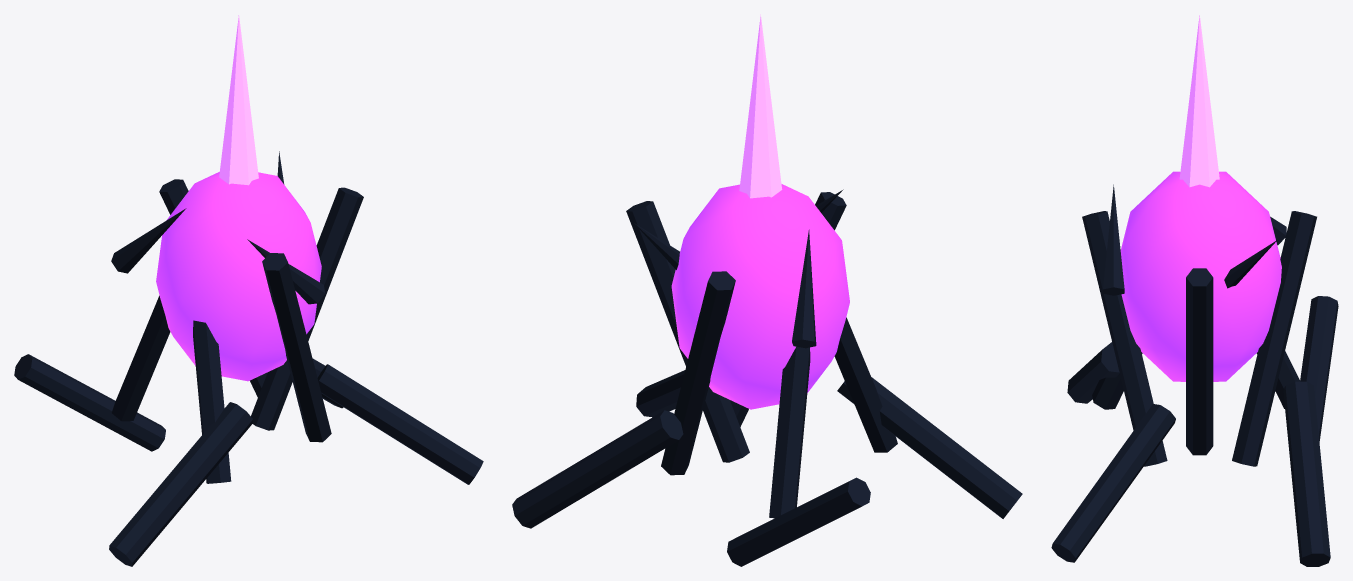
Rendered from espino_giza.glb.
3 renders of one model, left to right at view 1: azimuth 30°, elevation 25°; view 2: azimuth 150°, elevation 25°; view 3: azimuth 270°, elevation 25°, orthographic. The views are drawn at different scales.
Visible parts, largest first — view 1: Icosphere, Cylinder, Cylinder.001, Cylinder.008, Cylinder.002, Cylinder.004, Cone, Cylinder.007, Cylinder.006, Cone.002, Cone.003, Cylinder.005; view 2: Icosphere, Cylinder.003, Cylinder, Cylinder.005, Cylinder.004, Cylinder.006, Cylinder.002, Cone, Cylinder.007, Cone.002, Cylinder.001, Cylinder.008; view 3: Icosphere, Cylinder.005, Cylinder.003, Cylinder.001, Cylinder.004, Cylinder.008, Cone, Cylinder.002, Cylinder, Cone.003, Cylinder.007, Cone.001 (+1 smaller).
Boxes of the visible parts, bbox=[...] form: Icosphere: bbox=[156, 172, 321, 381]; Cylinder: bbox=[109, 402, 253, 566]; Cylinder.001: bbox=[317, 364, 483, 484]; Cylinder.008: bbox=[262, 253, 331, 442]; Cylinder.002: bbox=[14, 354, 165, 451]; Cylinder.004: bbox=[251, 187, 363, 430]; Cone: bbox=[219, 15, 258, 185]; Cylinder.007: bbox=[193, 320, 231, 483]; Cylinder.006: bbox=[111, 295, 170, 421]; Cone.002: bbox=[111, 208, 186, 273]; Cone.003: bbox=[247, 239, 325, 304]; Cylinder.005: bbox=[159, 179, 267, 397]; Icosphere: bbox=[671, 184, 849, 409]; Cylinder.003: bbox=[512, 410, 683, 528]; Cylinder: bbox=[837, 377, 1022, 518]; Cylinder.005: bbox=[661, 271, 735, 475]; Cylinder.004: bbox=[626, 201, 749, 462]; Cylinder.006: bbox=[769, 346, 810, 518]; Cylinder.002: bbox=[727, 477, 870, 566]; Cone: bbox=[739, 14, 782, 198]; Cylinder.007: bbox=[834, 317, 897, 452]; Cone.002: bbox=[792, 229, 816, 348]; Cylinder.001: bbox=[636, 370, 685, 417]; Cylinder.008: bbox=[730, 192, 846, 426]; Icosphere: bbox=[1120, 171, 1281, 381]; Cylinder.005: bbox=[1232, 211, 1316, 466]; Cylinder.003: bbox=[1283, 381, 1330, 566]; Cylinder.001: bbox=[1051, 404, 1175, 562]; Cylinder.004: bbox=[1186, 268, 1213, 455]; Cylinder.008: bbox=[1082, 211, 1167, 466]; Cone: bbox=[1179, 15, 1219, 187]; Cylinder.002: bbox=[1300, 296, 1338, 441]; Cylinder: bbox=[1067, 342, 1119, 403]; Cone.003: bbox=[1103, 184, 1124, 295]; Cylinder.007: bbox=[1092, 352, 1142, 409]; Cone.001: bbox=[1224, 240, 1277, 288].
Bounding box in the file's own units: 1.18 × 1.47 × 0.8024.
